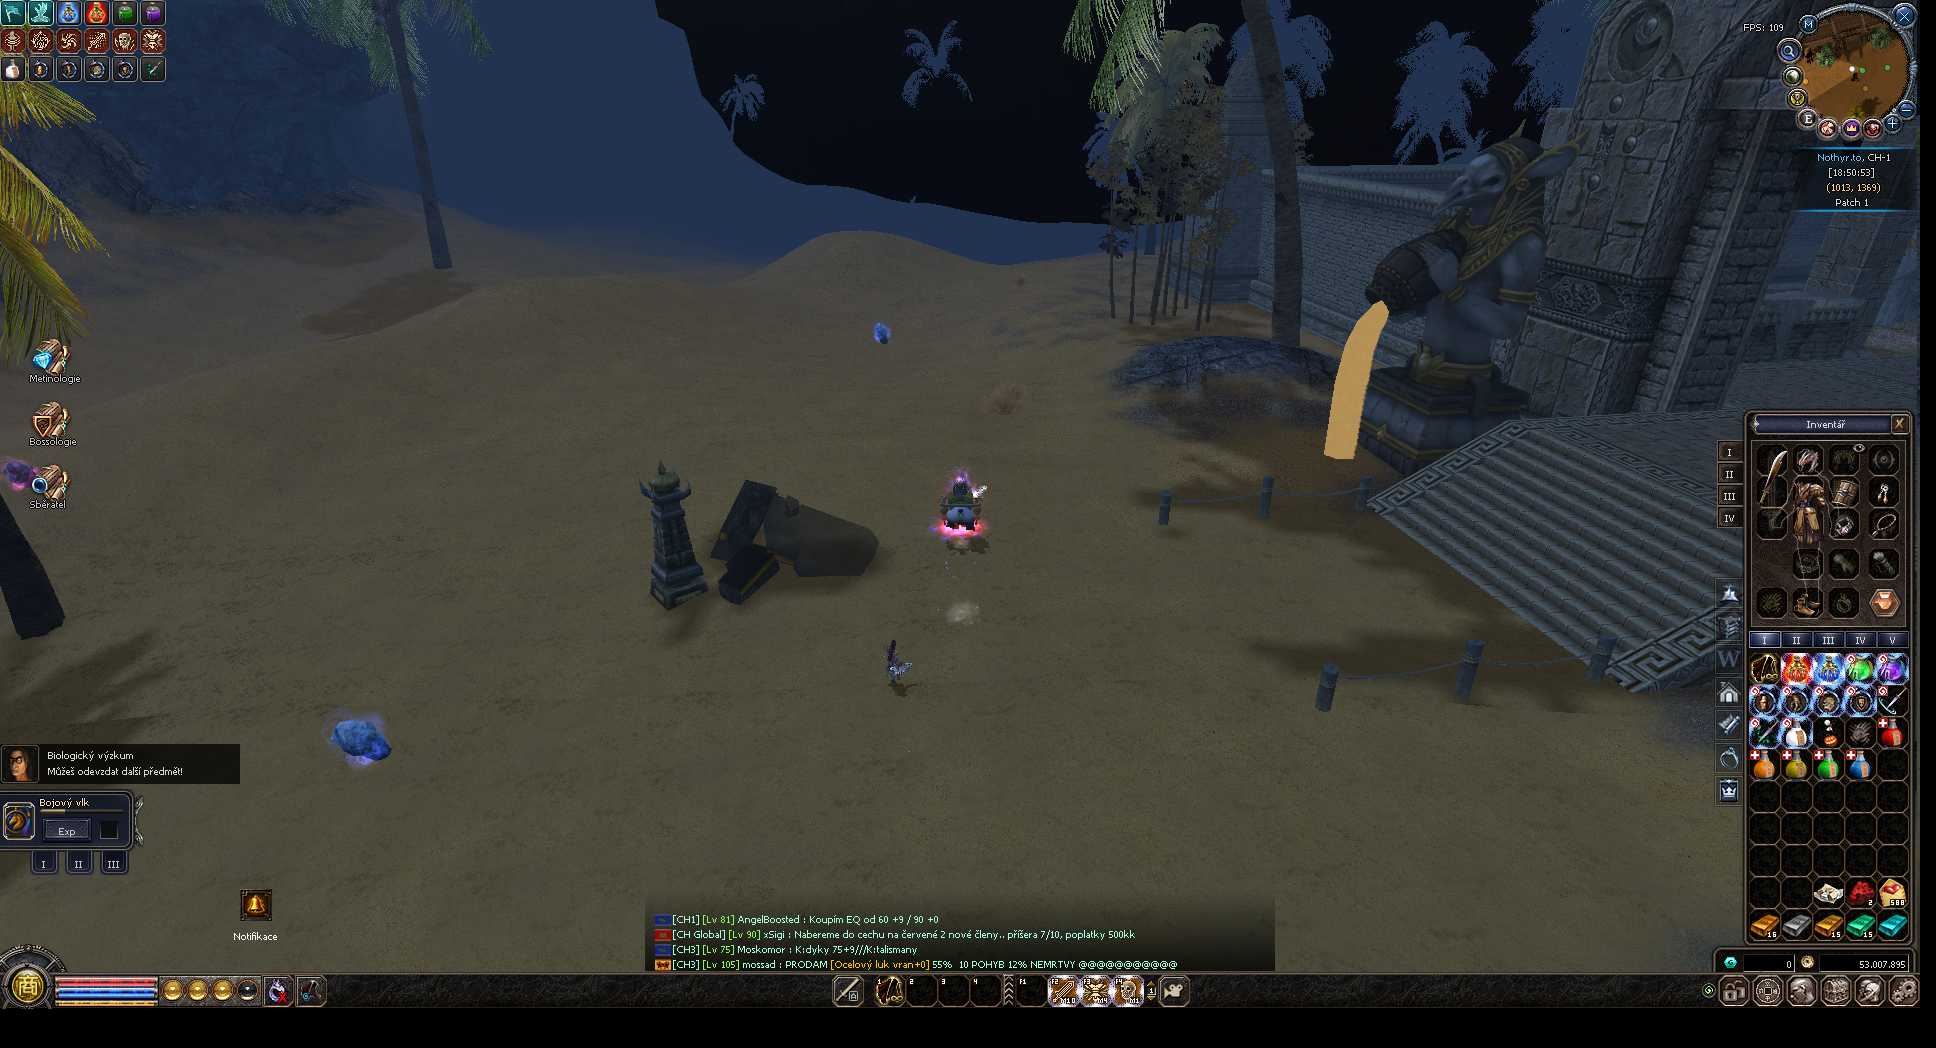Buff: (333, 715, 394, 768), (874, 324, 892, 345)
Me: (941, 475, 985, 533)
Statue: (885, 640, 911, 687)
